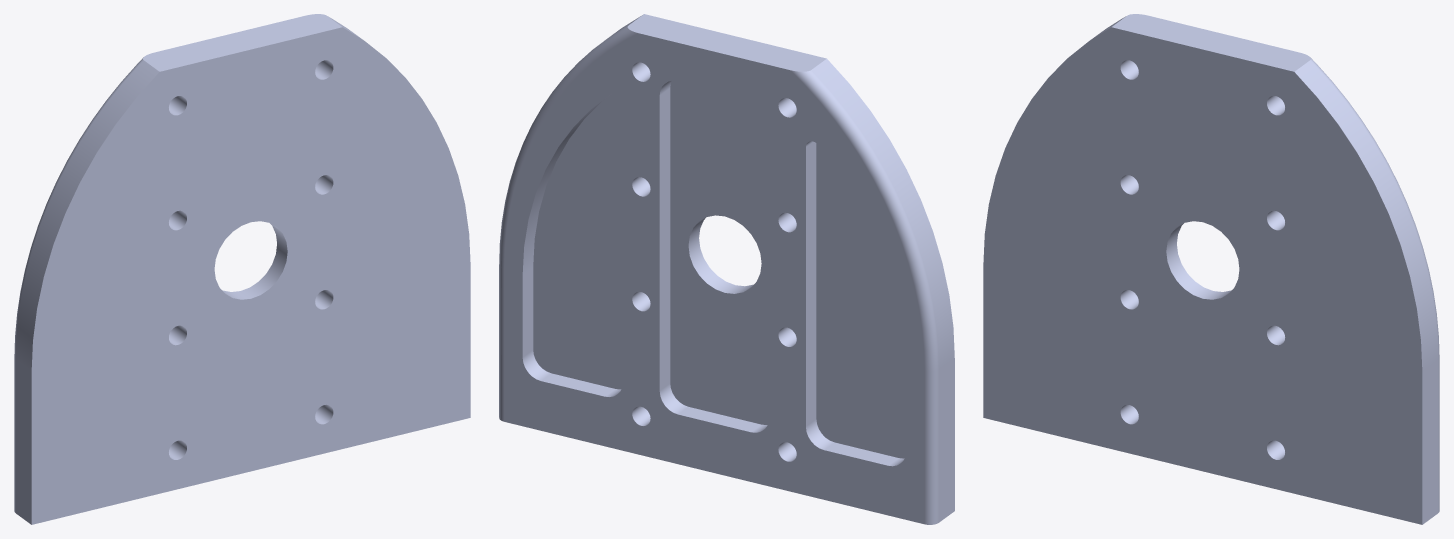
Rendered from Rear.dae.
3 views of the same model, side by side, from view 1: azimuth 30°, elevation 25°; view 2: azimuth 150°, elevation 25°; view 3: azimuth 330°, elevation 25° (orthographic).
Parts seen in each view (by area): view 1: Actor0; view 2: Actor0; view 3: Actor0.
Part boxes in pixels (<box>): Actor0: <box>14,14,470,524</box>; Actor0: <box>499,14,954,524</box>; Actor0: <box>983,14,1439,524</box>.
Bounding box in the file's own units: 0.1524 × 0.14 × 0.0127.
